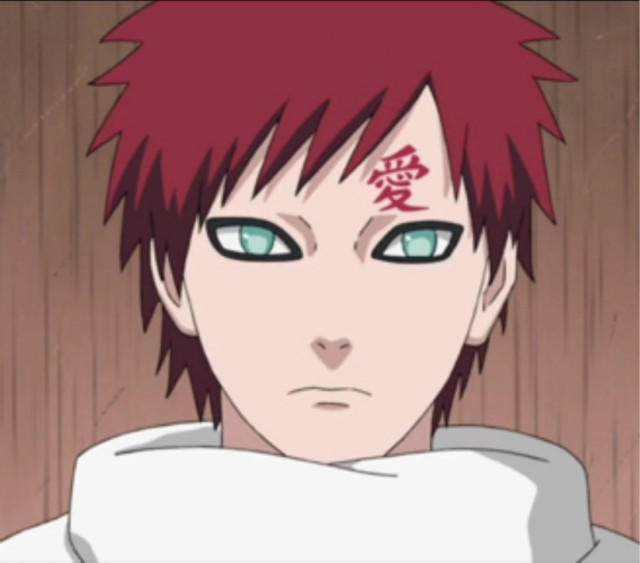gaara: (143, 69, 527, 462)
